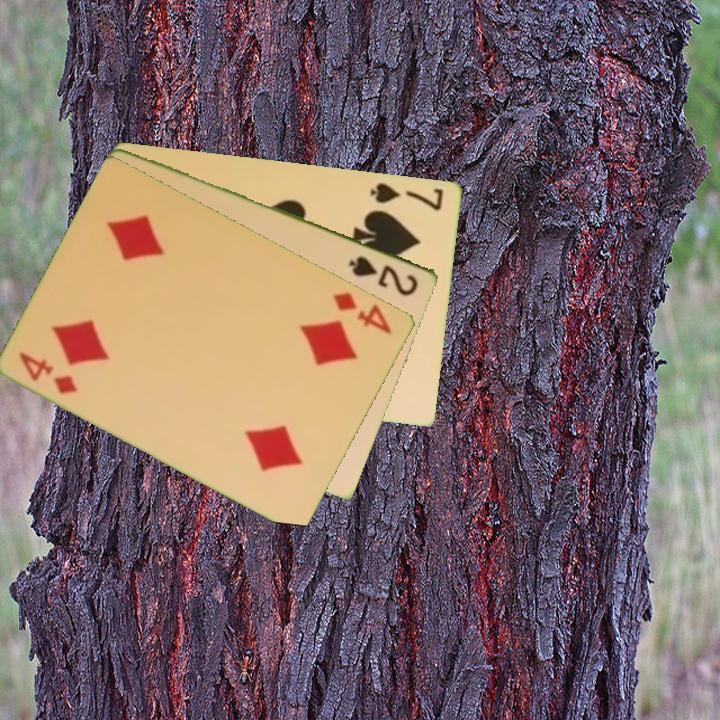2s: (346, 251, 422, 299)
4d: (330, 288, 396, 337), (16, 348, 82, 397)
7s: (367, 179, 447, 213)
